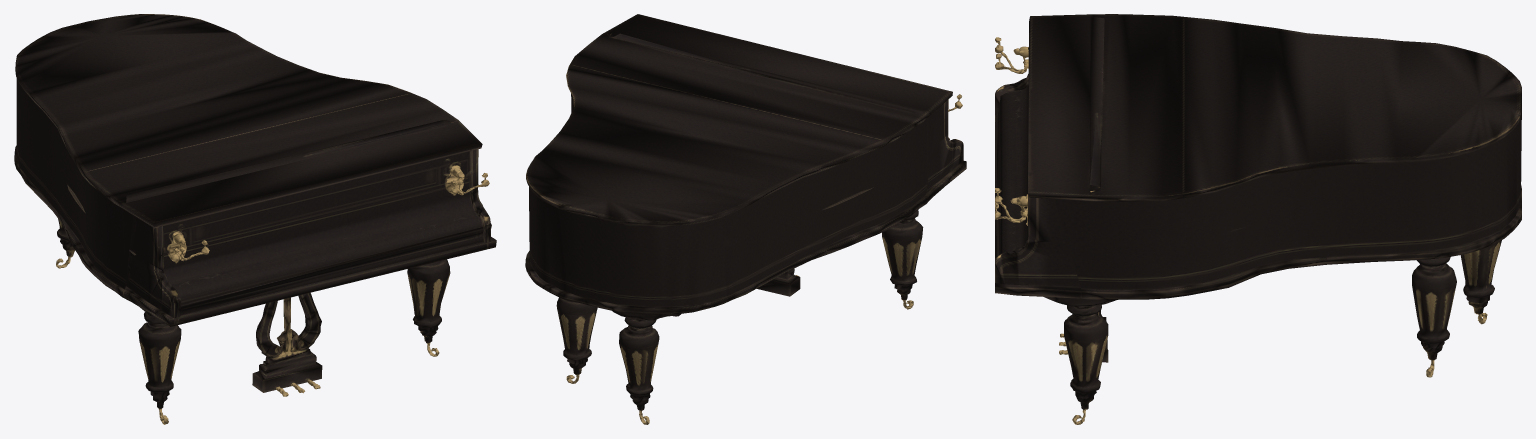
File: rrr_prop_grand-piano_v1.glb
3 renders of one model, left to right at view 1: azimuth 30°, elevation 25°; view 2: azimuth 150°, elevation 25°; view 3: azimuth 270°, elevation 25°, orthographic. The views are drawn at different scales.
Parts seen in each view (by area): view 1: Mesh_0; view 2: Mesh_0; view 3: Mesh_0.
Part boxes in pixels (bbox=[...]): Mesh_0: bbox=[14, 14, 496, 424]; Mesh_0: bbox=[525, 14, 966, 424]; Mesh_0: bbox=[995, 14, 1521, 424].
Bounding box in the file's own units: 1.58 × 1 × 1.92.
1 material, 1 textured.
